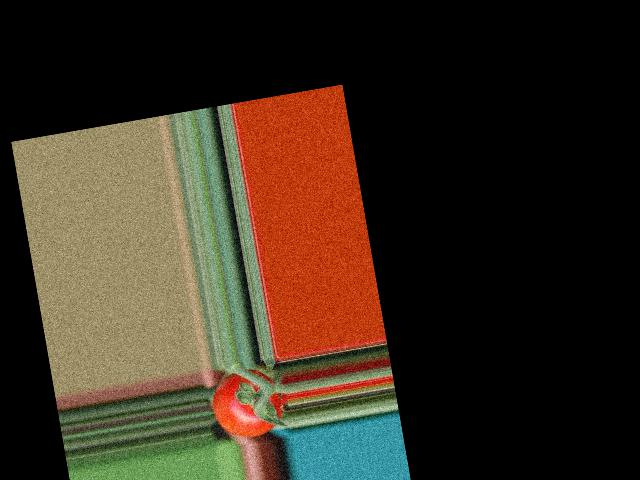tomato: (208, 363, 291, 442)
